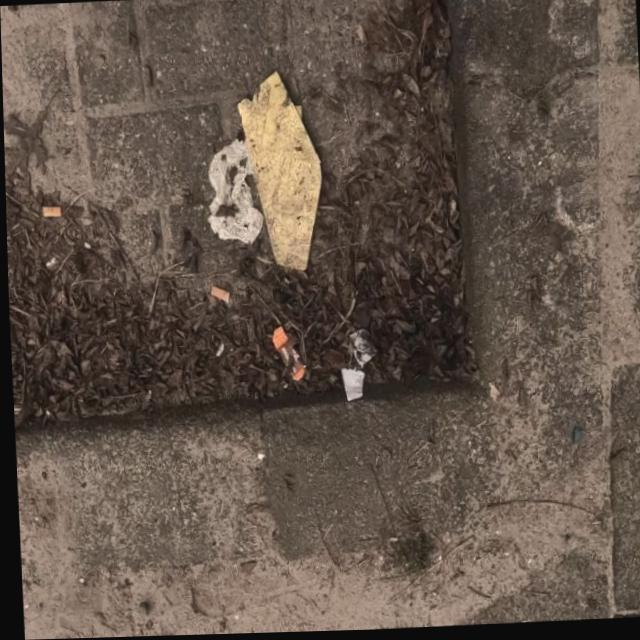Paper: (234, 70, 325, 276), (202, 139, 262, 249), (345, 330, 376, 372)
Plastic: (268, 324, 305, 384)
